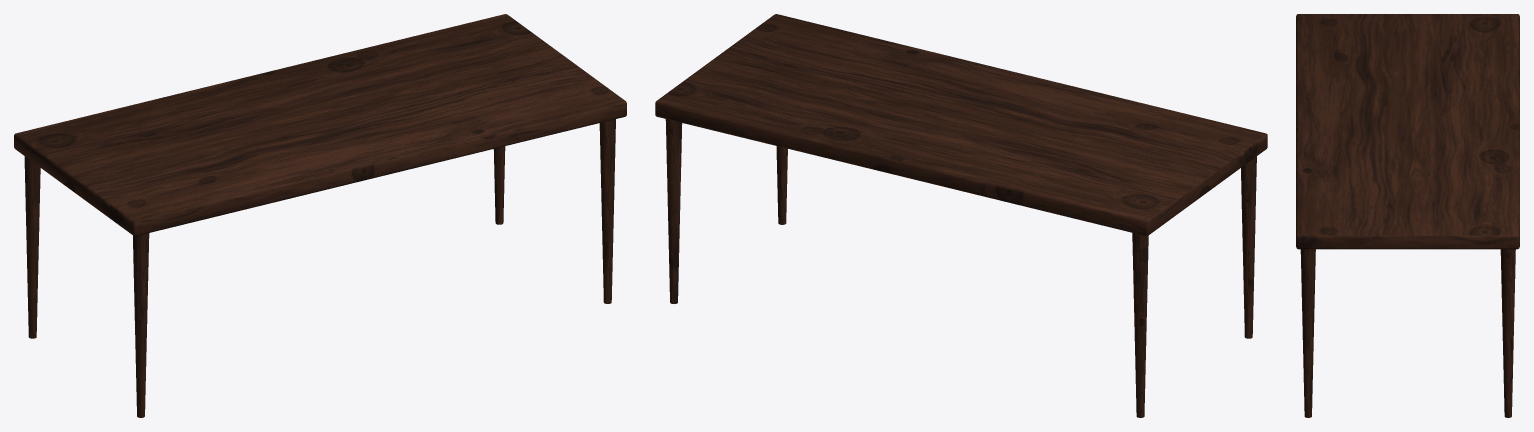
File: Table.fbx
3 renders of one model, left to right at view 1: azimuth 30°, elevation 25°; view 2: azimuth 150°, elevation 25°; view 3: azimuth 270°, elevation 25°, orthographic. The views are drawn at different scales.
Parts seen in each view (by area): view 1: top, legs; view 2: top, legs; view 3: top, legs.
Part boxes in pixels (x1,y1,x2,y2): top: [14, 14, 626, 236]; legs: [24, 119, 615, 417]; top: [655, 14, 1267, 235]; legs: [665, 119, 1256, 417]; top: [1296, 14, 1519, 249]; legs: [1300, 249, 1515, 417].
Size of the model in its own units: 2 by 0.7845 by 0.85.
